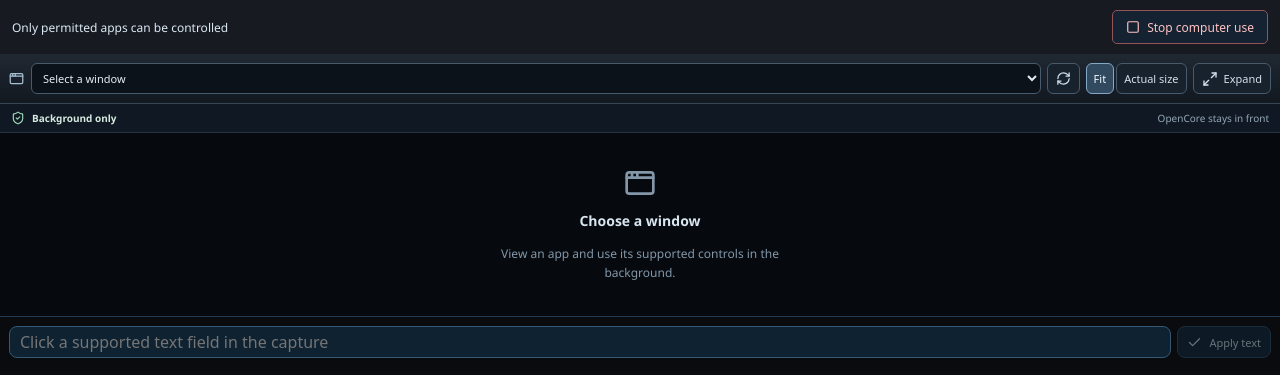
Test: clears the selected capture when computer access is disabled during refresh
Select "Notes" in the dropdown named "Window" at (536, 78), box top-left (31, 63), bottom-right (1041, 94)
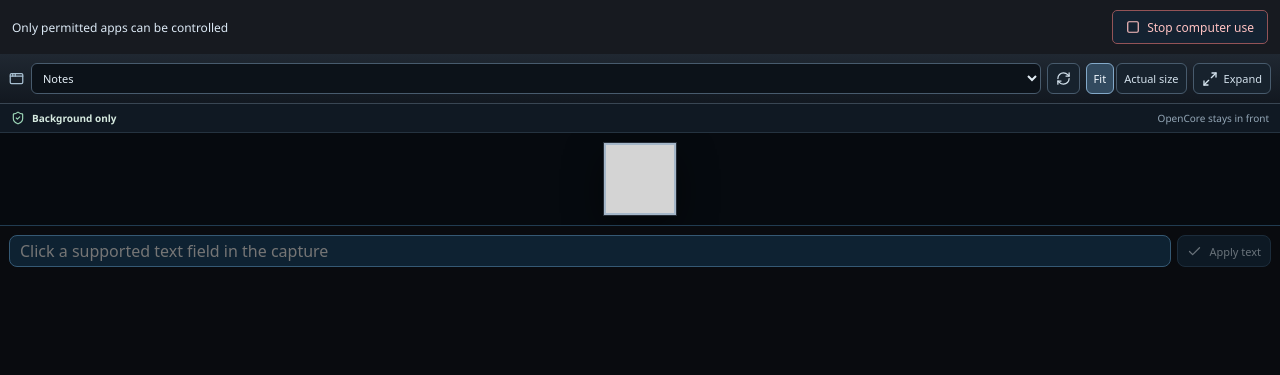
Click the button named "Refresh capture" at (1063, 78), box top-left (1047, 63), bottom-right (1080, 94)
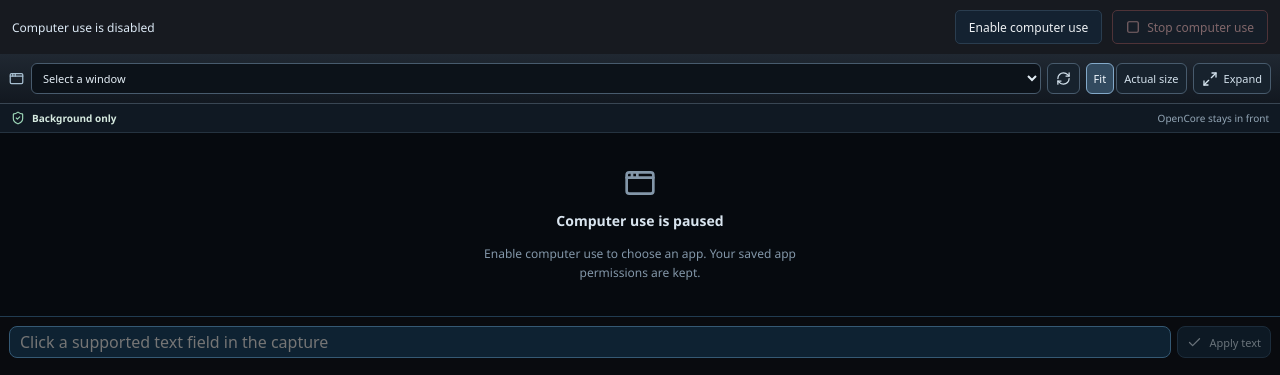
expect the text "Computer use is disabled" is shown: met, box top-left (12, 18), bottom-right (155, 36)
